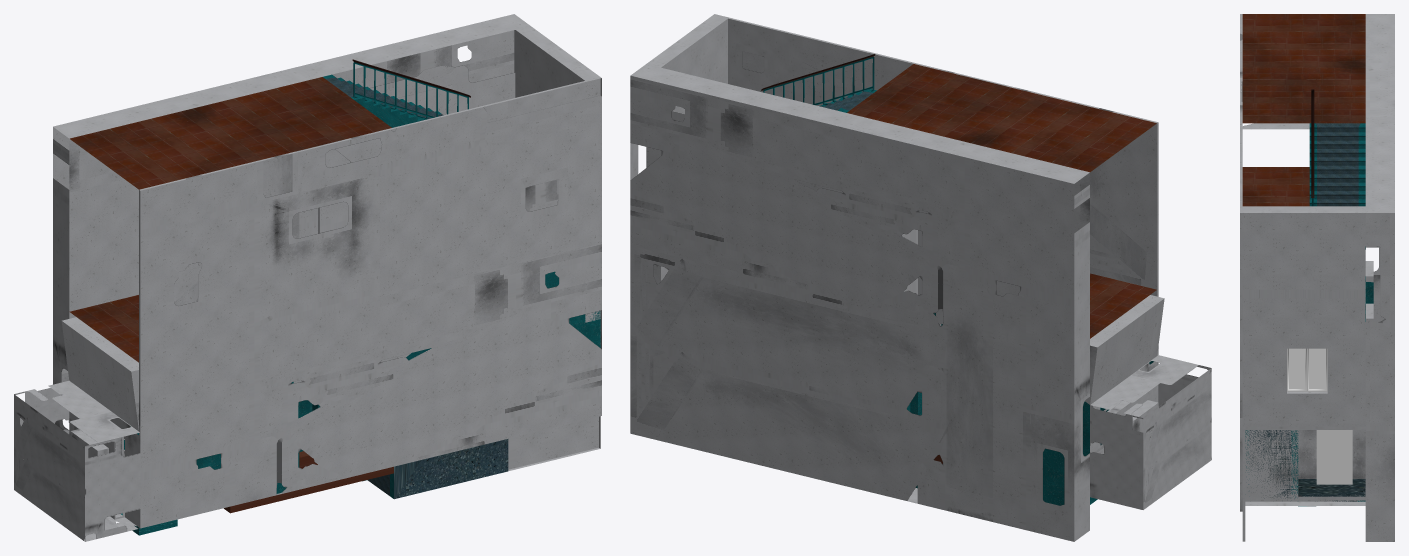
File: enterance.fbx
3 renders of one model, left to right at view 1: azimuth 30°, elevation 25°; view 2: azimuth 150°, elevation 25°; view 3: azimuth 270°, elevation 25°, orthographic. The views are drawn at different scales.
Parts seen in each view (by area): view 1: obj21, obj40, obj43, obj26, obj27, obj18, obj31, obj10, obj29, obj22, obj3, obj45 (+2 smaller); view 2: obj40, obj21, obj43, obj26, obj27, obj31, obj29, obj41, obj45; view 3: obj31, obj40, obj43, obj10, obj13, obj29, obj9, obj21, obj33, obj18, obj17, obj14 (+5 smaller).
Part boxes in pixels (left/top/right/bottom): obj21: left=139, top=77, right=601, bottom=528; obj40: left=53, top=14, right=530, bottom=430; obj43: left=70, top=77, right=391, bottom=189; obj26: left=14, top=380, right=140, bottom=541; obj27: left=61, top=317, right=138, bottom=431; obj18: left=367, top=439, right=508, bottom=499; obj31: left=515, top=26, right=600, bottom=322; obj10: left=508, top=416, right=600, bottom=471; obj29: left=69, top=295, right=138, bottom=362; obj22: left=196, top=271, right=600, bottom=493; obj3: left=224, top=451, right=393, bottom=513; obj45: left=353, top=62, right=468, bottom=119; obj40: left=630, top=64, right=1089, bottom=541; obj21: left=713, top=14, right=1158, bottom=364; obj43: left=847, top=64, right=1156, bottom=172; obj26: left=1090, top=355, right=1211, bottom=509; obj27: left=1085, top=295, right=1164, bottom=404; obj31: left=646, top=15, right=727, bottom=283; obj29: left=1090, top=273, right=1156, bottom=338; obj41: left=907, top=392, right=1089, bottom=505; obj45: left=763, top=56, right=874, bottom=106; obj31: left=1242, top=206, right=1365, bottom=426; obj40: left=1365, top=14, right=1394, bottom=541; obj43: left=1242, top=14, right=1365, bottom=123; obj10: left=1242, top=426, right=1365, bottom=541; obj13: left=1316, top=123, right=1360, bottom=206; obj29: left=1242, top=167, right=1309, bottom=206; obj9: left=1316, top=430, right=1352, bottom=484; obj21: left=1240, top=14, right=1242, bottom=511; obj33: left=1289, top=348, right=1325, bottom=389; obj18: left=1249, top=430, right=1291, bottom=498; obj17: left=1242, top=289, right=1365, bottom=298; obj14: left=1309, top=123, right=1365, bottom=249.
Bounding box in the file's own units: 1611 × 1237 × 473.
Materials: 17 (12 with a texture image).
